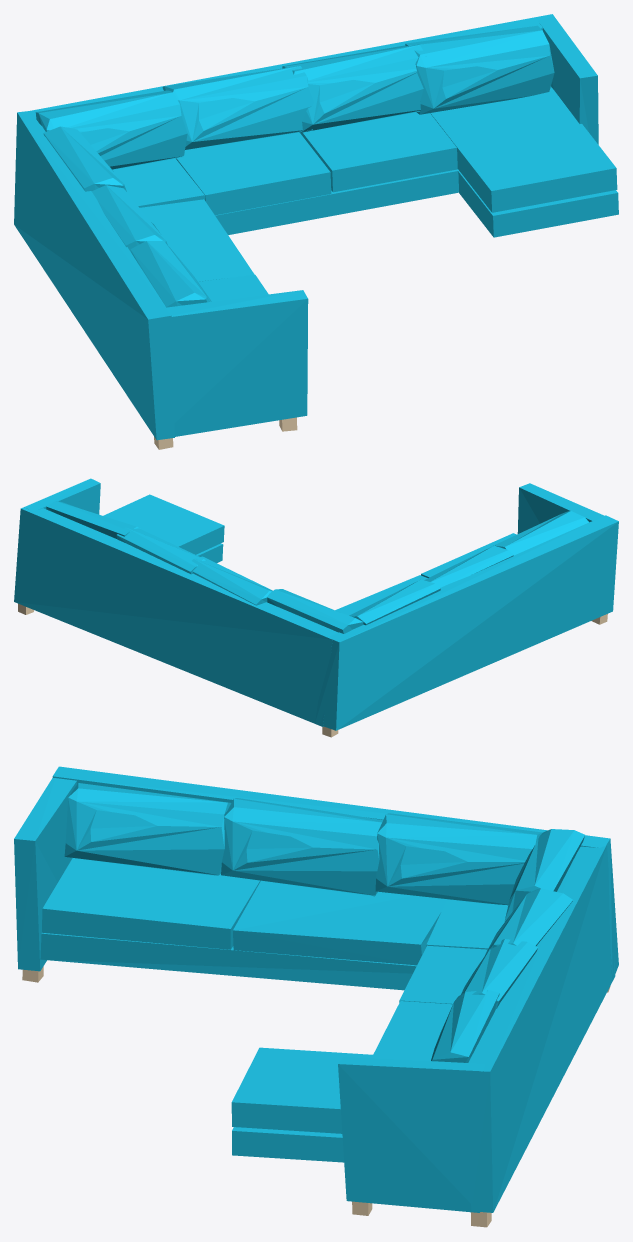
Rendered from sectional-sofa.glb.
The picture shows the model from 3 angles, top to bottom: view 1: azimuth 30°, elevation 25°; view 2: azimuth 150°, elevation 25°; view 3: azimuth 270°, elevation 25°; orthographic projection. The views are drawn at different scales.
Visible parts, largest first — view 1: group48918404, group1211063114, group1097500883, group975749564, group1421899832, group1721942015, group1643965277, group552221921, group356552471, group1620106774, group144543017, group780972100 (+7 smaller); view 2: group1168210582, group48918404, group1097500883, group1211063114, group356552471, group1721942015, group1733011213, group552221921, group1658047592, group548102949, group757148259, group975749564 (+2 smaller); view 3: group1168210582, group757148259, group1974898934, group144543017, group548102949, group1733011213, group1658047592, group689334446, group1097500883, group1211063114, group48918404, group1421899832 (+7 smaller).
Part boxes in pixels (x1=…): group48918404: x1=14, y1=110, x2=174, y2=440; group1211063114: x1=167, y1=290, x2=308, y2=436; group1097500883: x1=430, y1=86, x2=617, y2=212; group975749564: x1=405, y1=25, x2=554, y2=114; group1421899832: x1=176, y1=132, x2=331, y2=215; group1721942015: x1=162, y1=66, x2=313, y2=149; group1643965277: x1=300, y1=112, x2=457, y2=192; group552221921: x1=282, y1=44, x2=426, y2=132; group356552471: x1=35, y1=90, x2=187, y2=169; group1620106774: x1=215, y1=169, x2=459, y2=234; group144543017: x1=140, y1=199, x2=254, y2=281; group780972100: x1=458, y1=171, x2=618, y2=237; group1168210582: x1=14, y1=507, x2=337, y2=726; group48918404: x1=315, y1=515, x2=618, y2=730; group1097500883: x1=103, y1=494, x2=224, y2=554; group1211063114: x1=517, y1=483, x2=603, y2=533; group356552471: x1=267, y1=589, x2=363, y2=633; group1721942015: x1=192, y1=556, x2=272, y2=605; group1733011213: x1=493, y1=511, x2=589, y2=555; group552221921: x1=116, y1=527, x2=205, y2=574; group1658047592: x1=349, y1=579, x2=440, y2=625; group548102949: x1=424, y1=545, x2=513, y2=587; group757148259: x1=24, y1=478, x2=100, y2=514; group975749564: x1=46, y1=501, x2=139, y2=538; group1168210582: x1=465, y1=844, x2=615, y2=1212; group757148259: x1=338, y1=1056, x2=485, y2=1212; group1974898934: x1=42, y1=858, x2=260, y2=949; group144543017: x1=233, y1=881, x2=446, y2=965; group548102949: x1=221, y1=798, x2=382, y2=896; group1733011213: x1=64, y1=783, x2=231, y2=875; group1658047592: x1=375, y1=813, x2=542, y2=905; group689334446: x1=40, y1=932, x2=416, y2=990; group1097500883: x1=231, y1=1047, x2=431, y2=1133; group1211063114: x1=14, y1=778, x2=76, y2=971; group48918404: x1=52, y1=766, x2=618, y2=980; group1421899832: x1=399, y1=945, x2=487, y2=1004.
Bounding box in the file's own units: 2.31 × 0.5662 × 1.82.
